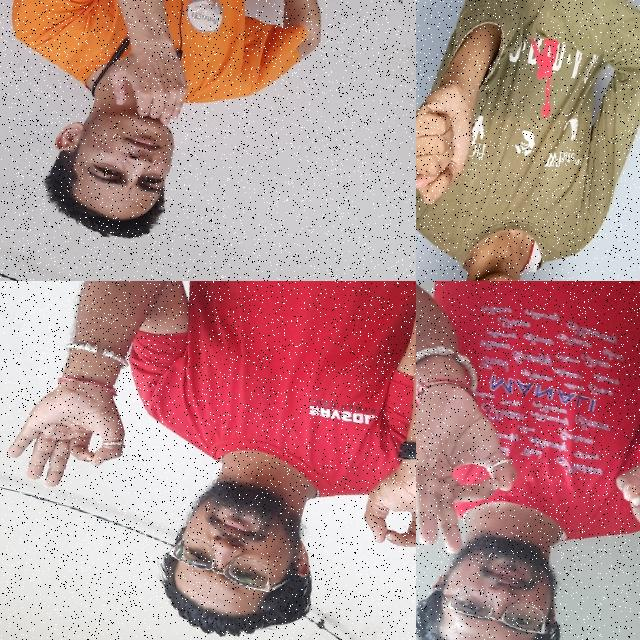Chin Flick: (25, 3, 226, 268)
Dulya: (416, 53, 504, 215)
Okay: (416, 353, 550, 570), (0, 354, 144, 512), (337, 437, 416, 613), (585, 409, 640, 629)
